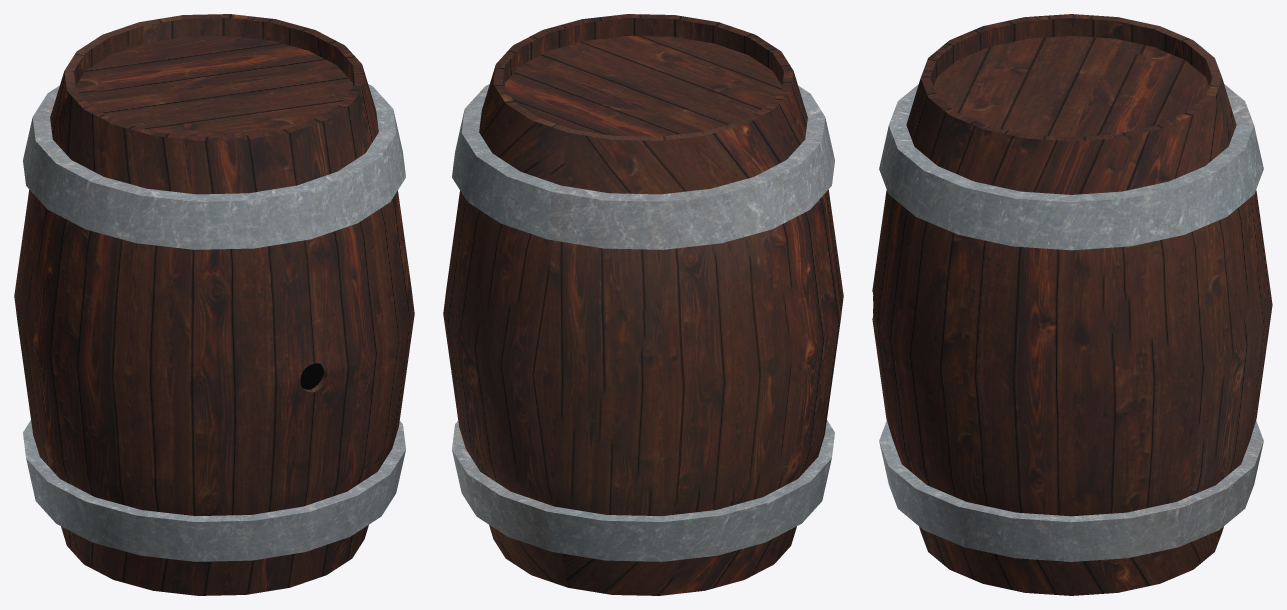
Rendered from cassaNonEsplosiva.fbx.
The picture shows the model from 3 angles, left to right: view 1: azimuth 30°, elevation 25°; view 2: azimuth 150°, elevation 25°; view 3: azimuth 270°, elevation 25°; orthographic projection.
Visible parts, largest first — view 1: CassaNonEsplosivaMesh; view 2: CassaNonEsplosivaMesh; view 3: CassaNonEsplosivaMesh.
Boxes of the visible parts, x1,y1,x2,y2 form: CassaNonEsplosivaMesh: [14, 14, 414, 595]; CassaNonEsplosivaMesh: [443, 14, 843, 595]; CassaNonEsplosivaMesh: [872, 14, 1272, 595].
Size of the model in its own units: 4.74 by 5.91 by 4.72.
Materials: 1 (1 with a texture image).
